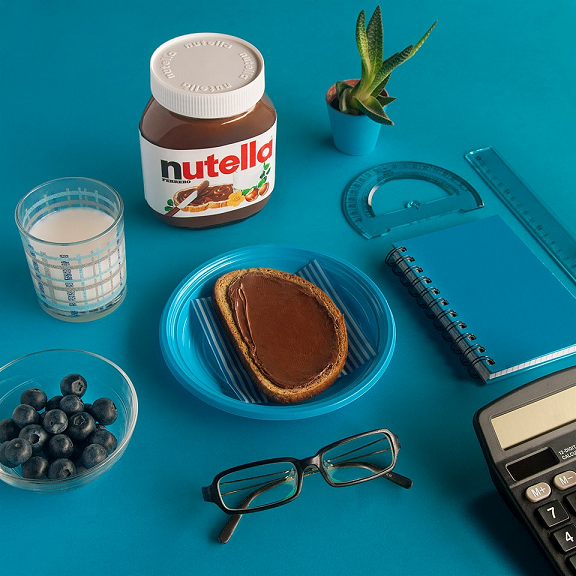nutella: (138, 29, 278, 231)
